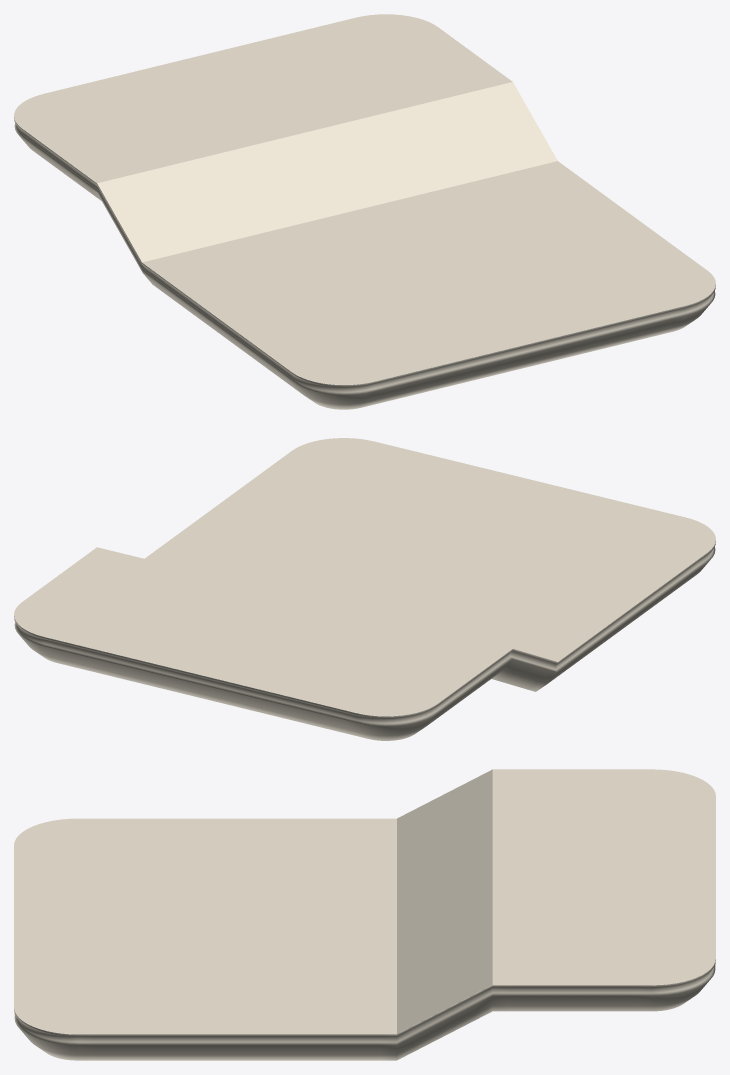
The model's file is terrace-r16.glb.
3 renders of one model, top to bottom at view 1: azimuth 30°, elevation 25°; view 2: azimuth 150°, elevation 25°; view 3: azimuth 270°, elevation 25°, orthographic. The views are drawn at different scales.
Parts seen in each view (by area): view 1: Rounded walking surface, Continuous hull; view 2: Rounded walking surface, Continuous hull; view 3: Rounded walking surface, Continuous hull.
Part boxes in pixels (box(x1,y1,x2,y2)): Rounded walking surface: box(14, 14, 715, 384); Continuous hull: box(14, 117, 715, 409); Rounded walking surface: box(14, 438, 715, 716); Continuous hull: box(14, 541, 715, 740); Rounded walking surface: box(14, 769, 715, 1034); Continuous hull: box(14, 959, 715, 1060).
Bounding box in the file's own units: 32 × 6.01 × 44.
